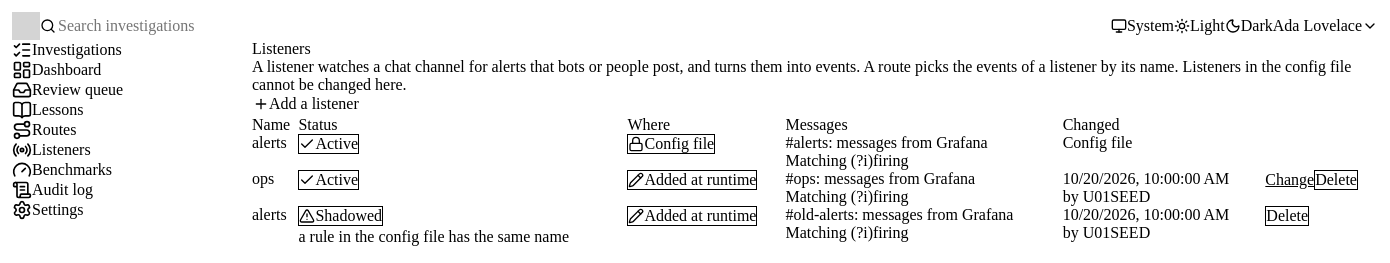
Test: the listeners page › asks before it deletes, and deletes with the CSRF token
What coordinates should you click on to do the following:
click the button with aria-label "Delete listener ops"
I would click on:
 (1336, 180)
Its box is [1314, 170, 1358, 190].
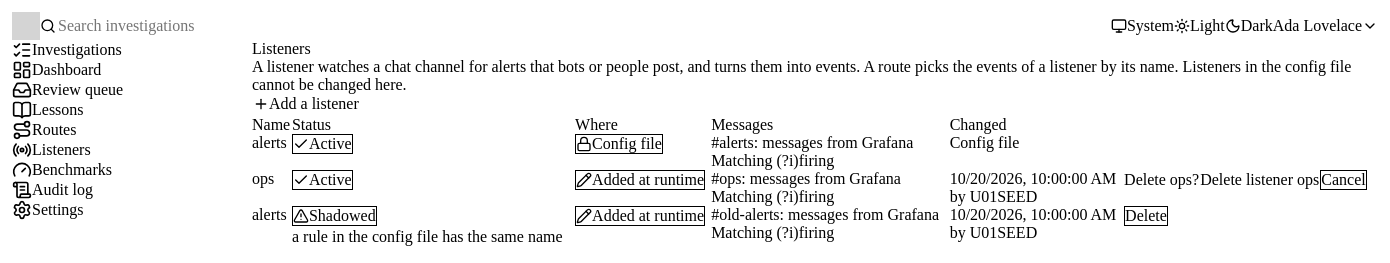
expect the text "Delete ops?" is shown: met, box [1124, 171, 1199, 189]
What coordinates should you click on to do the following:
click the button "Cancel"
I would click on:
 (1344, 180)
Its box is [1320, 170, 1367, 190].
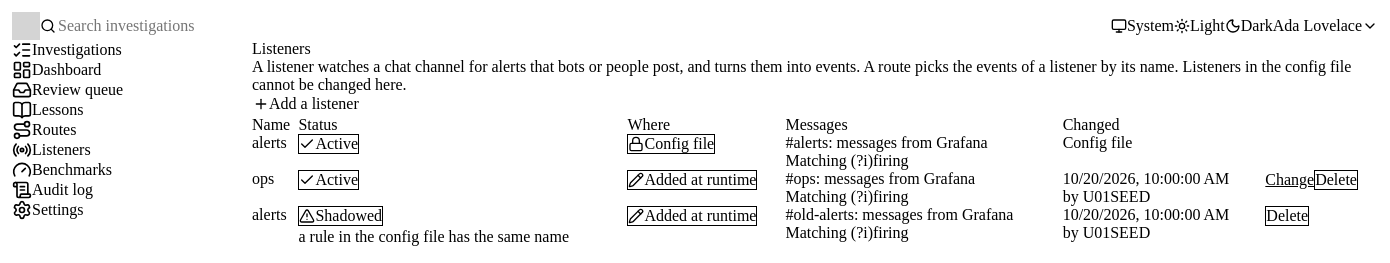
What coordinates should you click on to do the following:
click the button with aria-label "Delete listener ops"
I would click on:
 (1336, 180)
Its box is [1314, 170, 1358, 190].
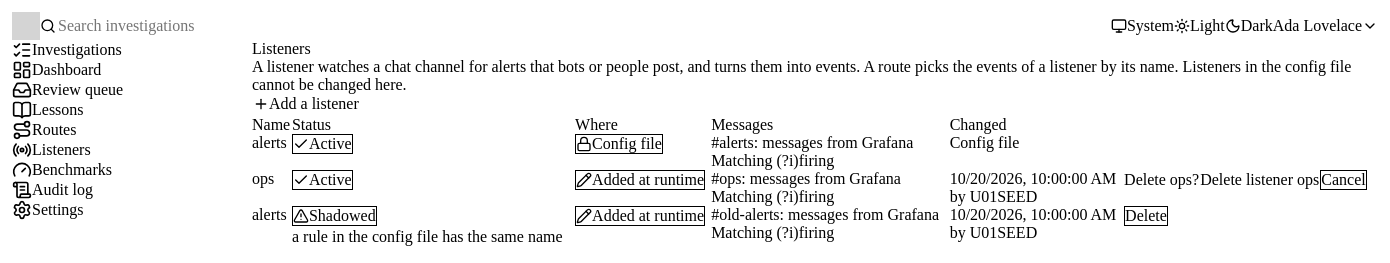
What coordinates should you click on to do the following:
click the button "Delete listener ops"
I would click on:
 (1260, 180)
Its box is [1199, 170, 1320, 190].
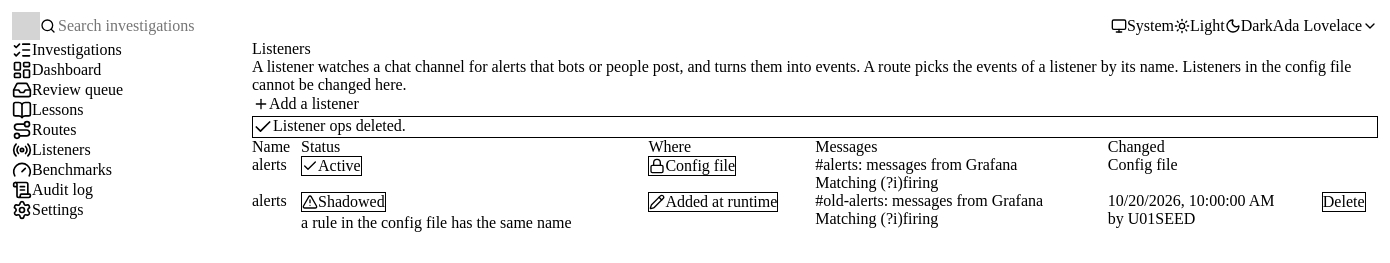
expect the heading "Listener ops deleted." is shown: met, box [273, 117, 406, 135]
